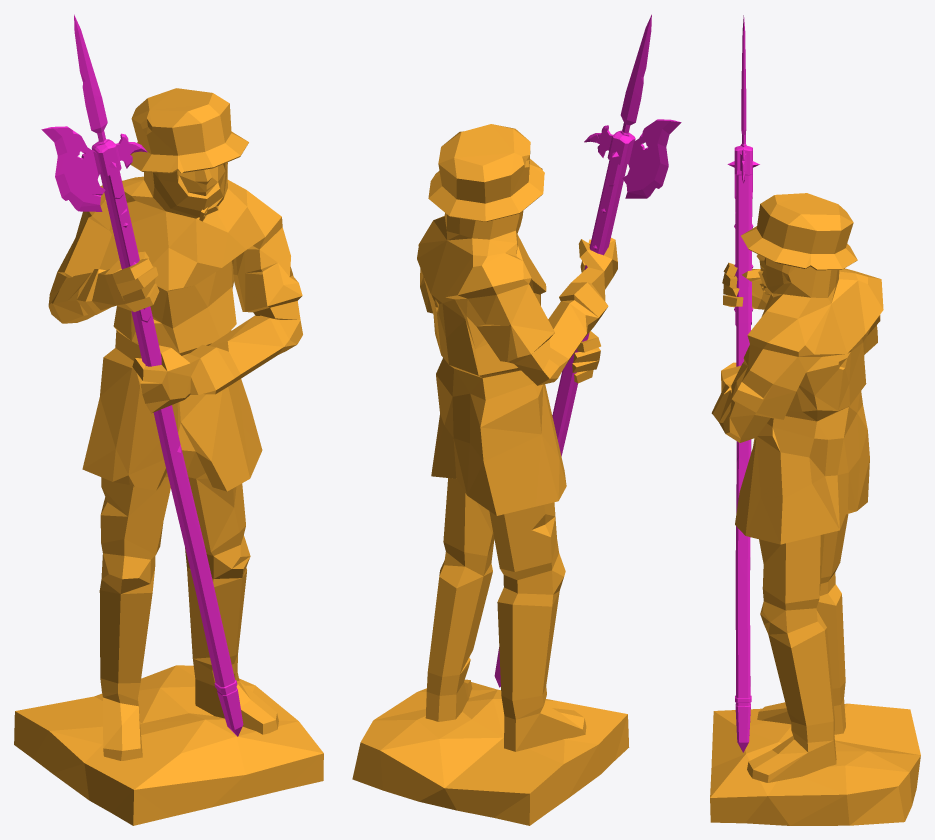
File: SM_Statue_Guard_Standing_Fantasy.fbx
3 renders of one model, left to right at view 1: azimuth 30°, elevation 25°; view 2: azimuth 150°, elevation 25°; view 3: azimuth 270°, elevation 25°, orthographic. The views are drawn at different scales.
Visible parts, largest first — view 1: SM_Statue_Guard_Standing_Fantasy; view 2: SM_Statue_Guard_Standing_Fantasy; view 3: SM_Statue_Guard_Standing_Fantasy.
Part boxes in pixels (box(x1,y1,x2,y2)): SM_Statue_Guard_Standing_Fantasy: box(14, 14, 323, 825); SM_Statue_Guard_Standing_Fantasy: box(352, 14, 681, 825); SM_Statue_Guard_Standing_Fantasy: box(710, 15, 920, 825).
Size of the model in its own units: 0.8145 by 2.31 by 0.6228.
